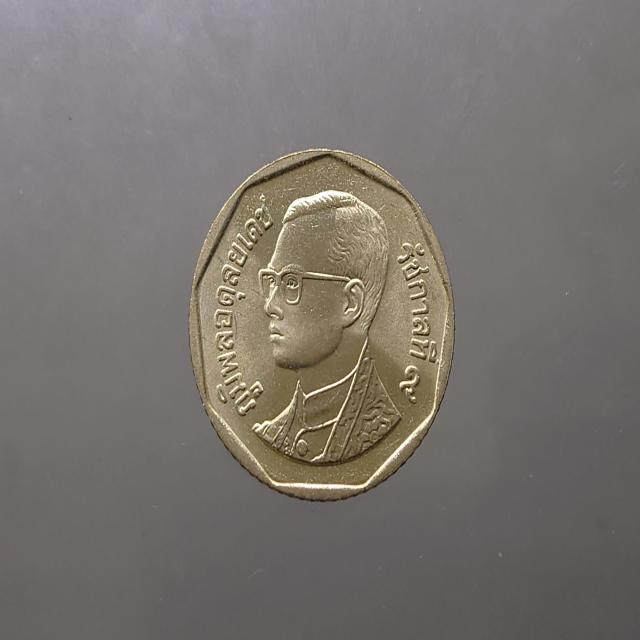5 Bath: (188, 147, 460, 507)
